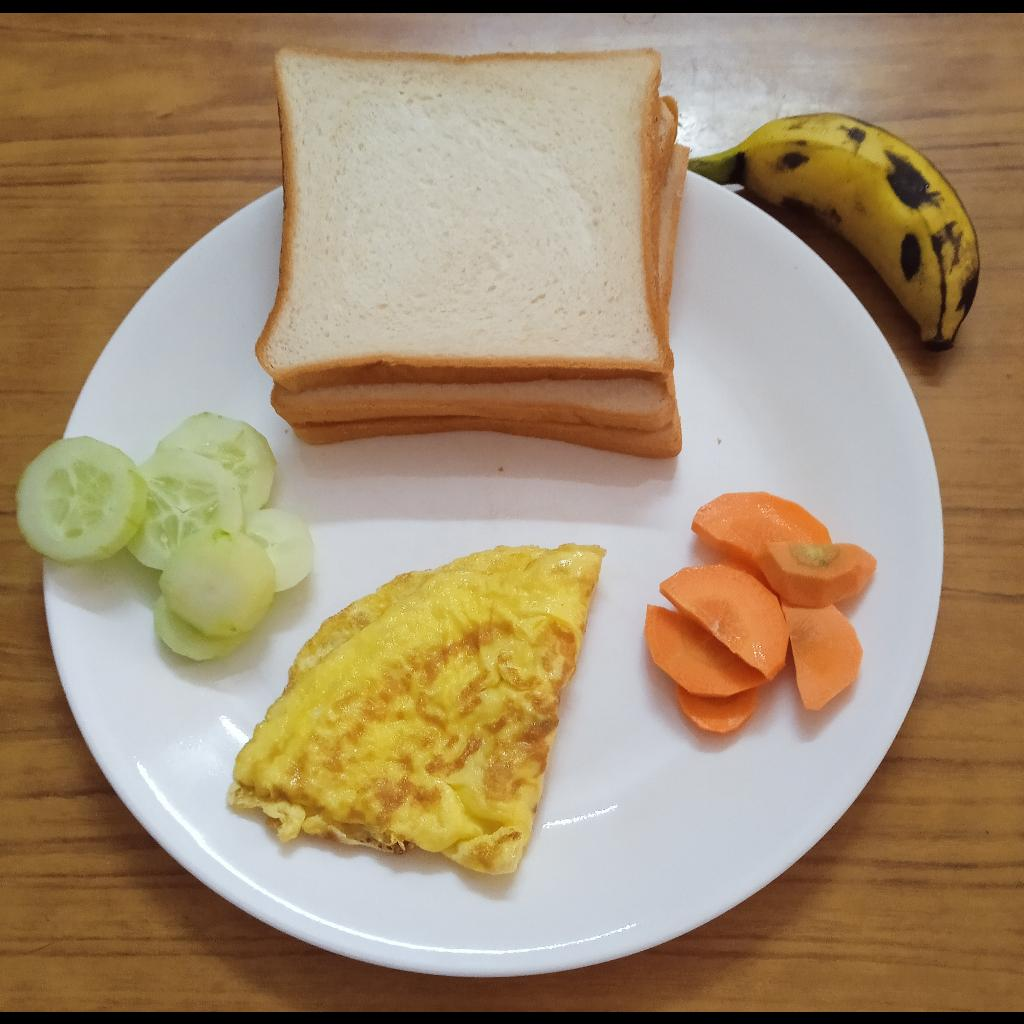banana: (691, 113, 981, 349)
bread: (255, 44, 690, 461)
carrot: (645, 492, 874, 738)
cucumber: (16, 414, 311, 661)
egg-poached: (224, 545, 608, 877)
